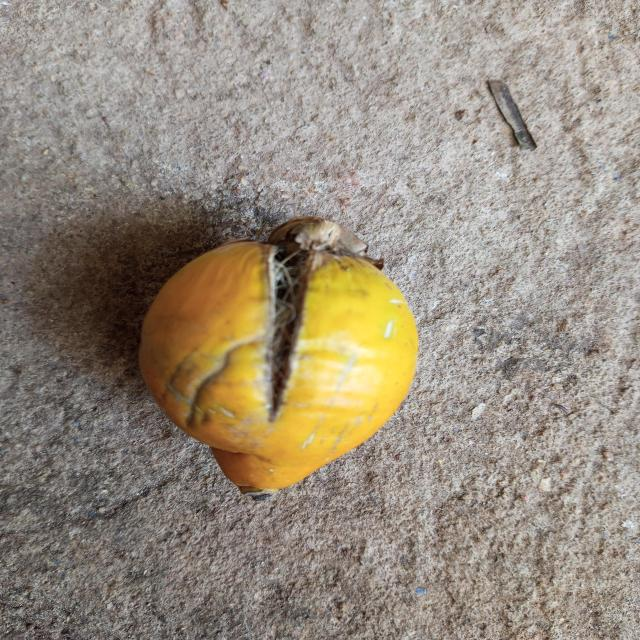damaged: (139, 217, 418, 498)
